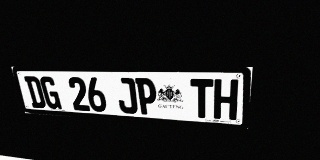2: (67, 77, 90, 111)
6: (84, 77, 108, 112)
D: (24, 76, 47, 108)
G: (39, 76, 62, 109)
H: (214, 79, 239, 120)
J: (115, 78, 138, 114)
P: (135, 78, 158, 115)
T: (190, 79, 213, 119)
